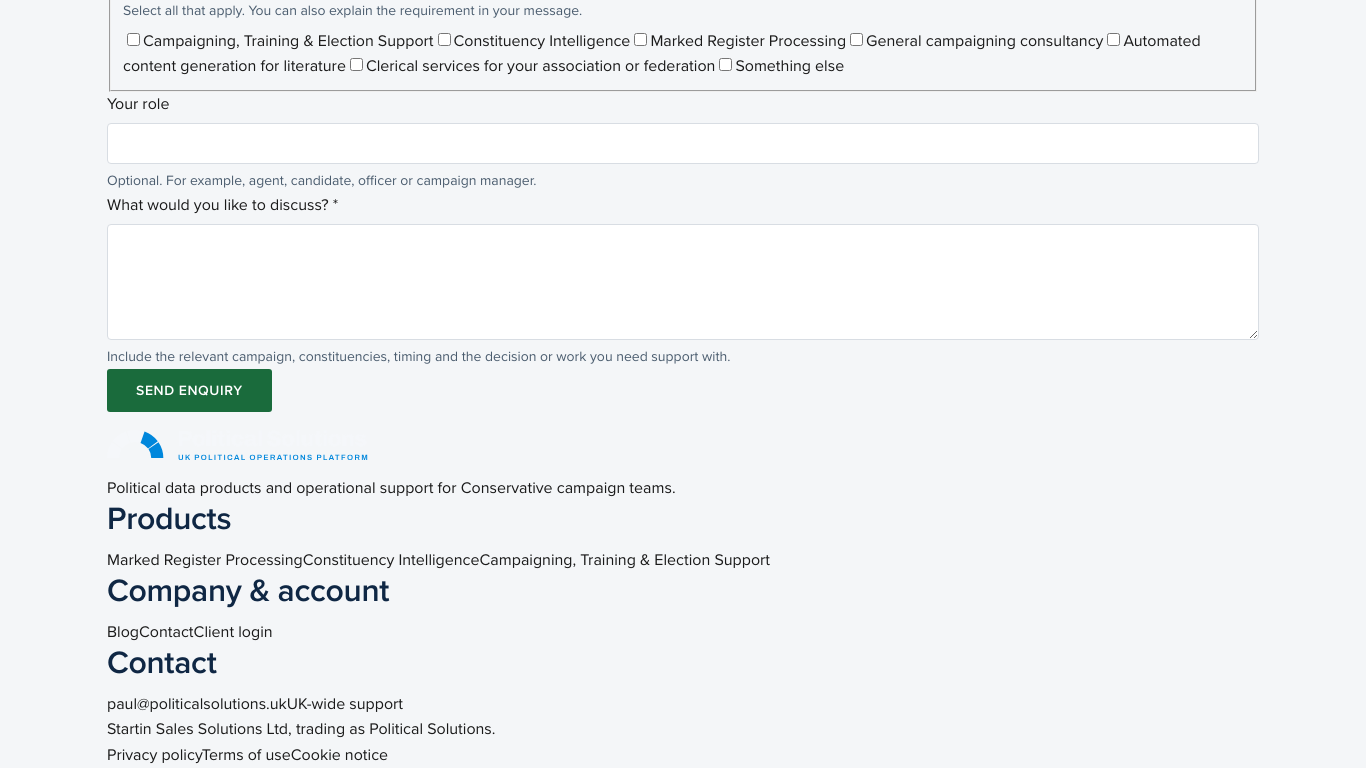
Test: EnquirePage › validates required fields on submit
(page scrolled)
Click the button "Send enquiry" at (189, 390), box [107, 369, 272, 412]
(page scrolled)
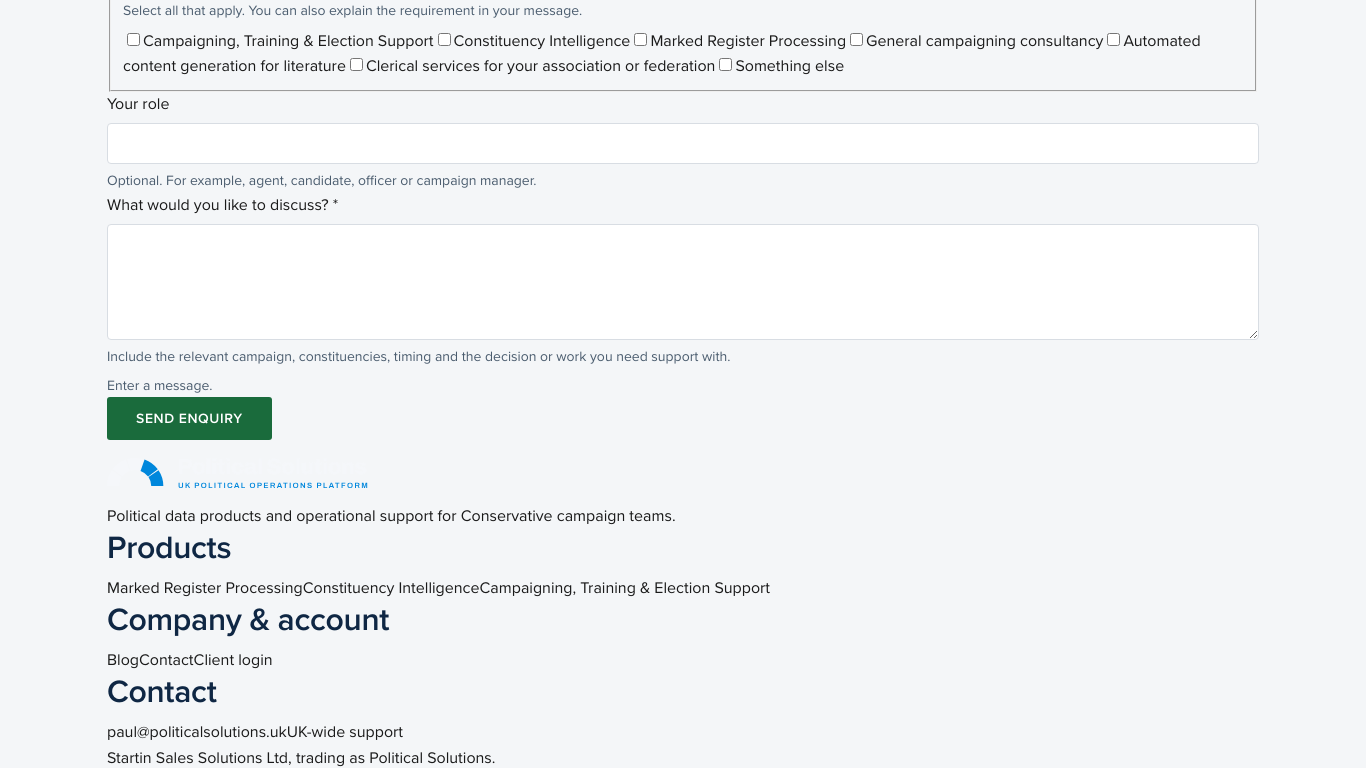
Expected: the text "Enter a message." is shown, [107, 377, 212, 394]
